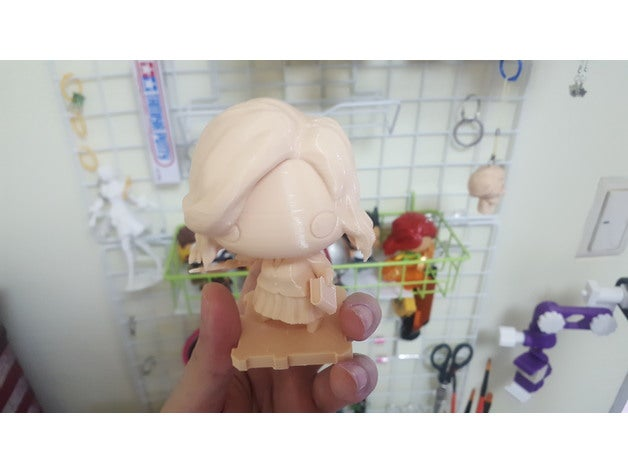Good: (160, 85, 398, 377)
